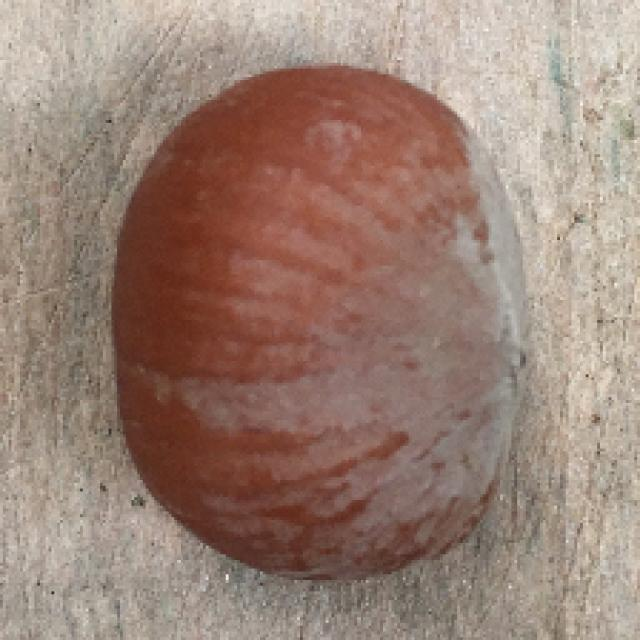qualityHazelnut: (109, 58, 543, 584)
